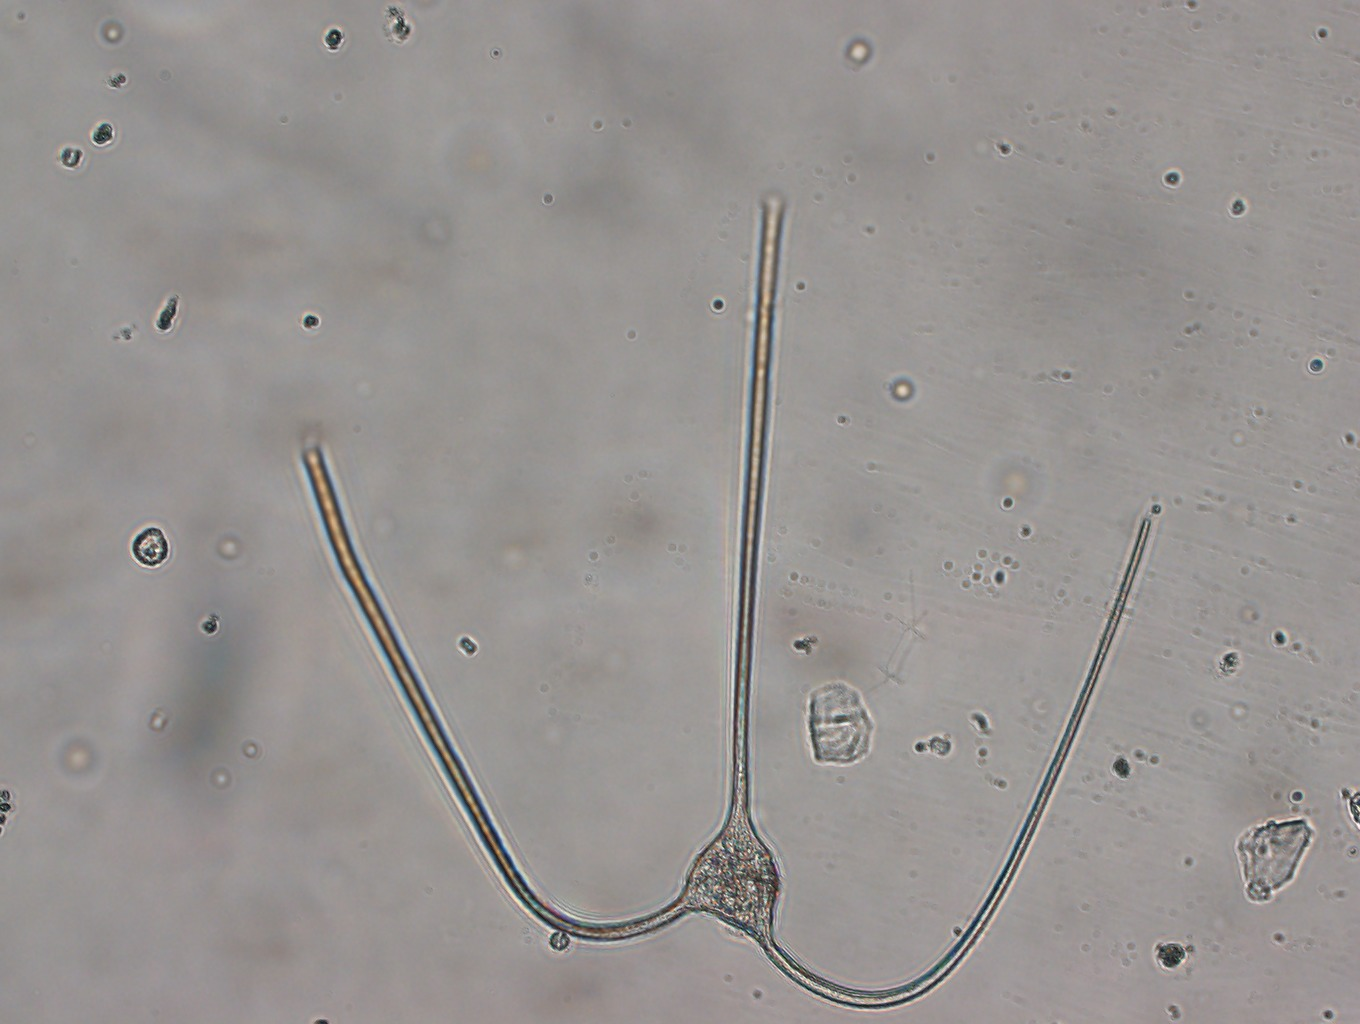ceratium trichoceros: (286, 181, 1156, 1016)
